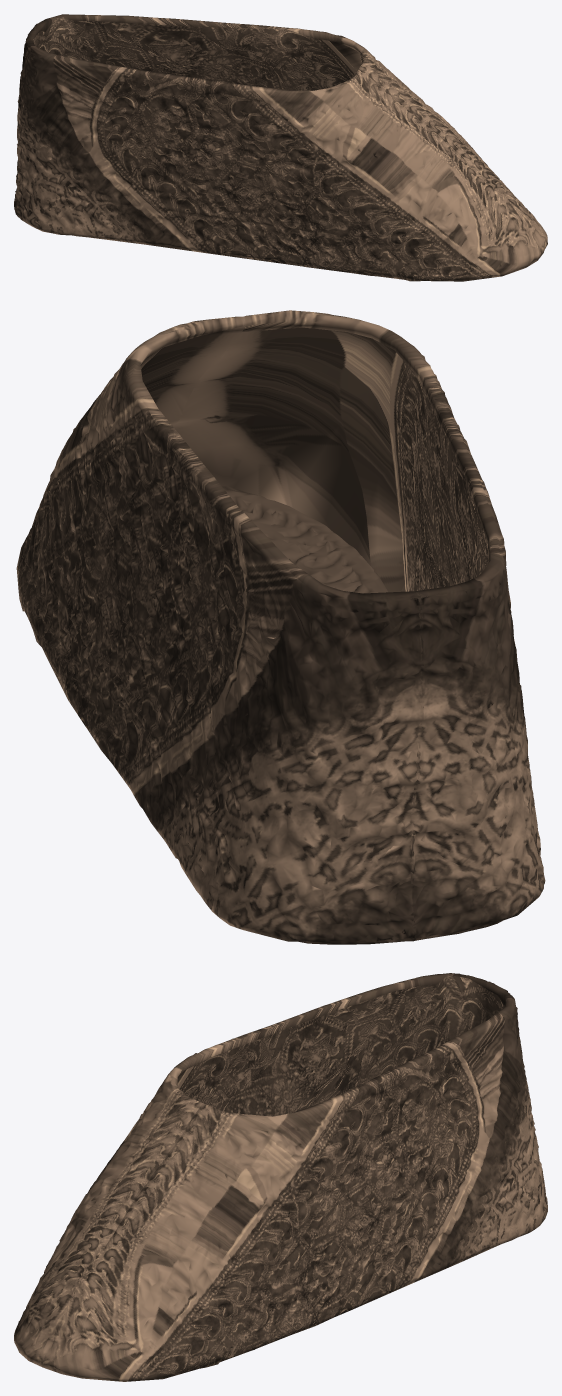
File: shoes-v1.glb
The picture shows the model from 3 angles, top to bottom: view 1: azimuth 30°, elevation 25°; view 2: azimuth 150°, elevation 25°; view 3: azimuth 270°, elevation 25°; orthographic projection. The views are drawn at different scales.
Parts seen in each view (by area): view 1: SM_24RE0045_High; view 2: SM_24RE0045_High; view 3: SM_24RE0045_High.
Part boxes in pixels (x1=…): SM_24RE0045_High: x1=14, y1=14, x2=547, y2=281; SM_24RE0045_High: x1=16, y1=310, x2=545, y2=944; SM_24RE0045_High: x1=14, y1=973, x2=547, y2=1381.
Size of the model in its own units: 4.67 by 2 by 4.79.
1 material, 1 textured.
